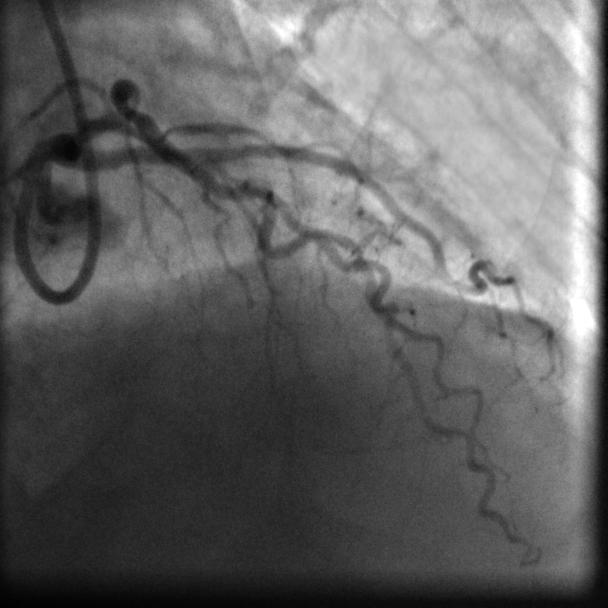Stenosis: (116, 85, 141, 127)
